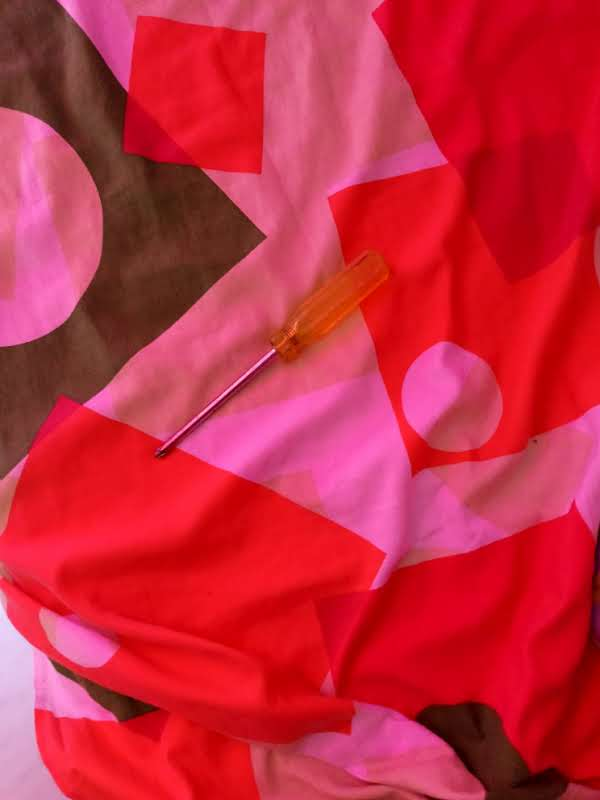Destornillador: (156, 251, 388, 456)
